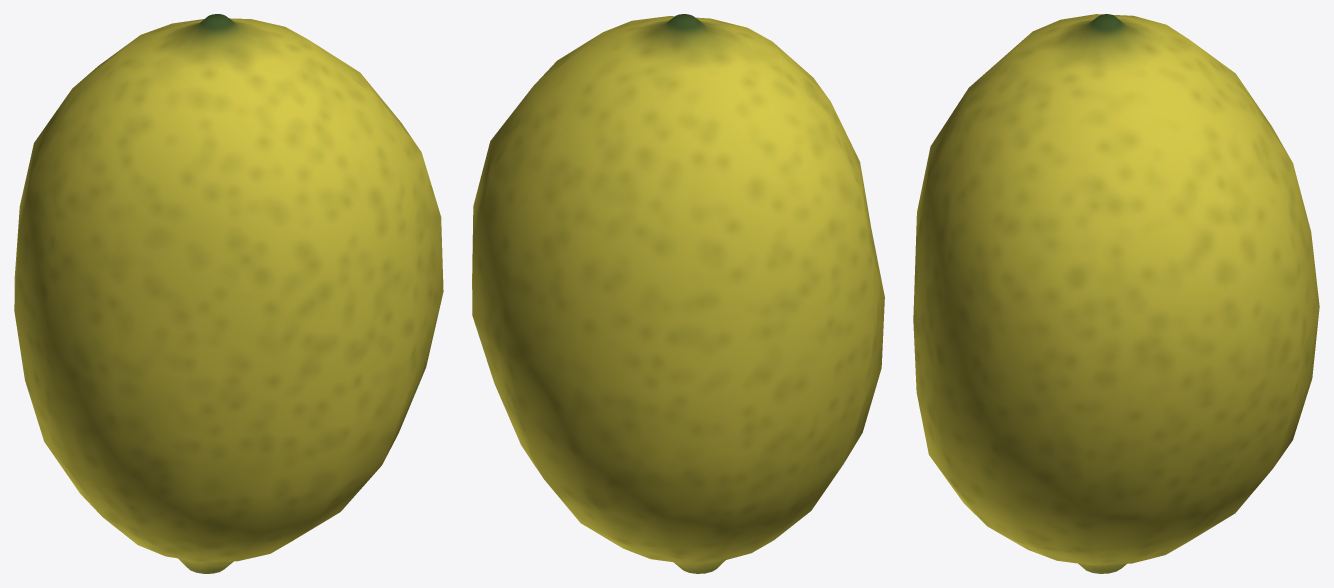
The model's file is lemon.fbx.
The picture shows the model from 3 angles, left to right: view 1: azimuth 30°, elevation 25°; view 2: azimuth 150°, elevation 25°; view 3: azimuth 270°, elevation 25°; orthographic projection.
Parts seen in each view (by area): view 1: lemon; view 2: lemon; view 3: lemon.
Part boxes in pixels (x1,y1,x2,y2): lemon: [14, 14, 443, 573]; lemon: [472, 14, 884, 573]; lemon: [913, 14, 1319, 573].
Size of the model in its own units: 15.94 by 22.31 by 14.84.
